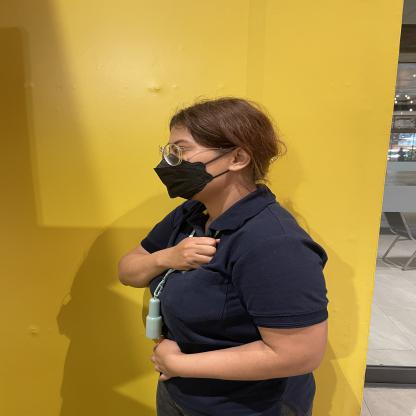Sadness: (97, 220, 256, 294)
